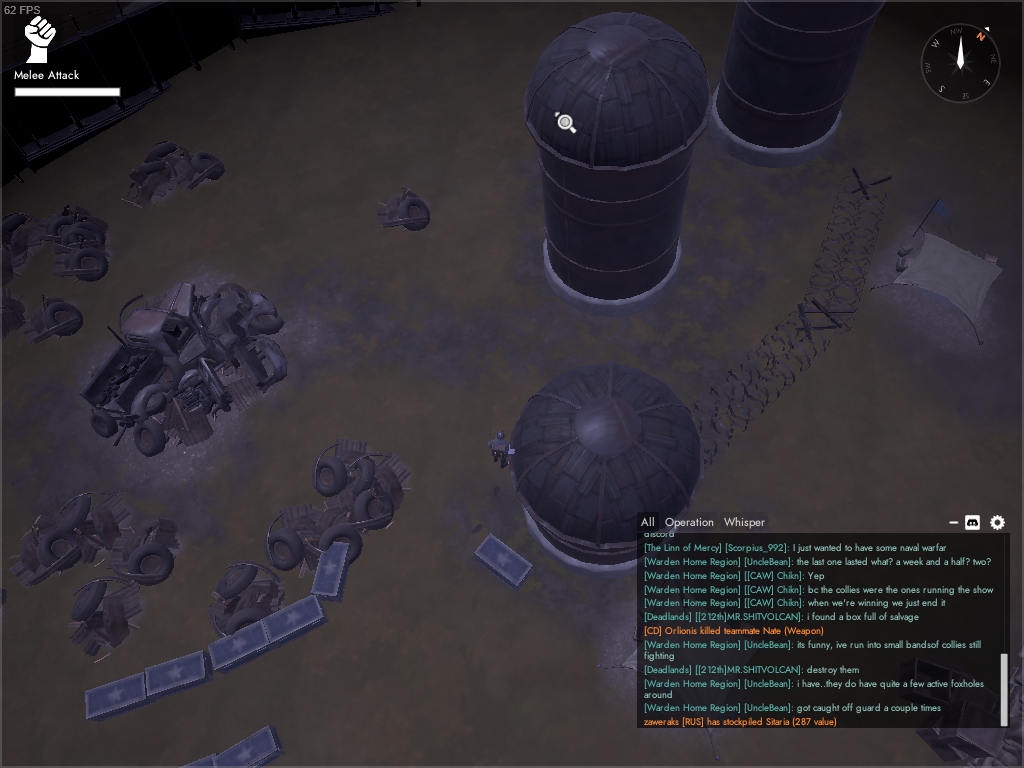foxhole: (594, 581, 785, 759), (866, 215, 1018, 350)
player: (486, 429, 516, 473)
scrap: (10, 492, 138, 588), (310, 435, 412, 535), (266, 502, 366, 580), (124, 140, 229, 212), (66, 576, 146, 665), (201, 563, 290, 639), (107, 517, 182, 591), (20, 292, 86, 348), (44, 204, 112, 255), (1, 209, 46, 286), (55, 234, 112, 288), (375, 185, 430, 235), (1, 286, 25, 340)
scrapyard: (74, 275, 290, 461)
storage_box: (260, 596, 331, 653), (143, 646, 214, 701), (82, 668, 150, 724), (472, 533, 534, 594), (211, 722, 288, 768), (206, 620, 270, 674), (310, 538, 351, 602), (160, 750, 220, 768)
wire: (666, 300, 853, 469), (796, 167, 895, 333)
